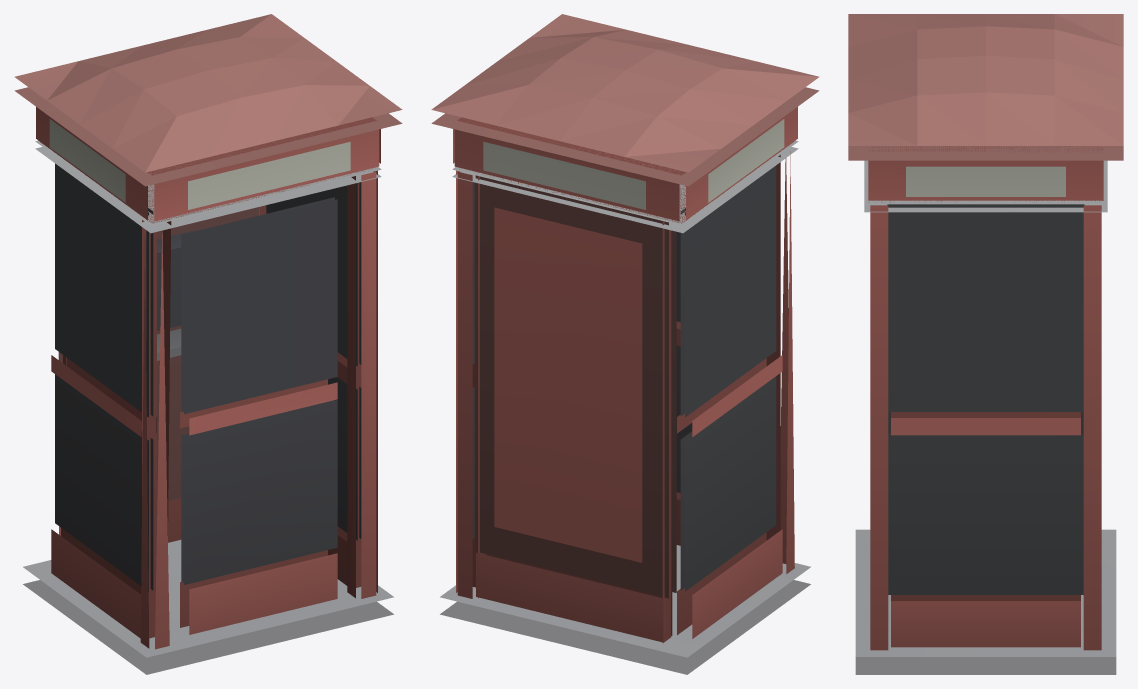
The model's file is phone.lod.glb.
The picture shows the model from 3 angles, left to right: view 1: azimuth 30°, elevation 25°; view 2: azimuth 150°, elevation 25°; view 3: azimuth 270°, elevation 25°; orthographic projection. The views are drawn at different scales.
Visible parts, largest first — view 1: phone; view 2: phone; view 3: phone.
Part boxes in pixels (left/top/right/bottom): phone: left=14, top=14, right=402, bottom=674; phone: left=431, top=14, right=819, bottom=674; phone: left=848, top=14, right=1123, bottom=674.
Bounding box in the file's own units: 1.17 × 2.3 × 1.03.
